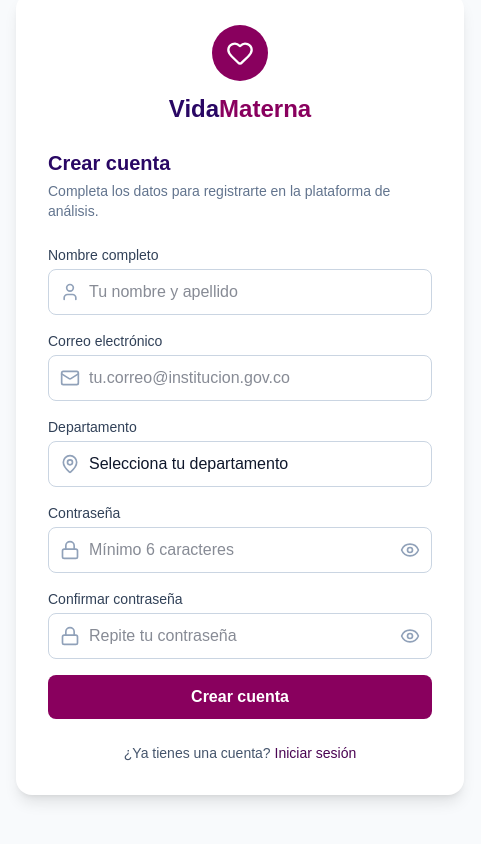
Register › revela la secretaría al seleccionar un departamento
Select "Antioquia" in the dropdown labelled "Departamento". click: [240, 464]
box: [48,441,432,487]
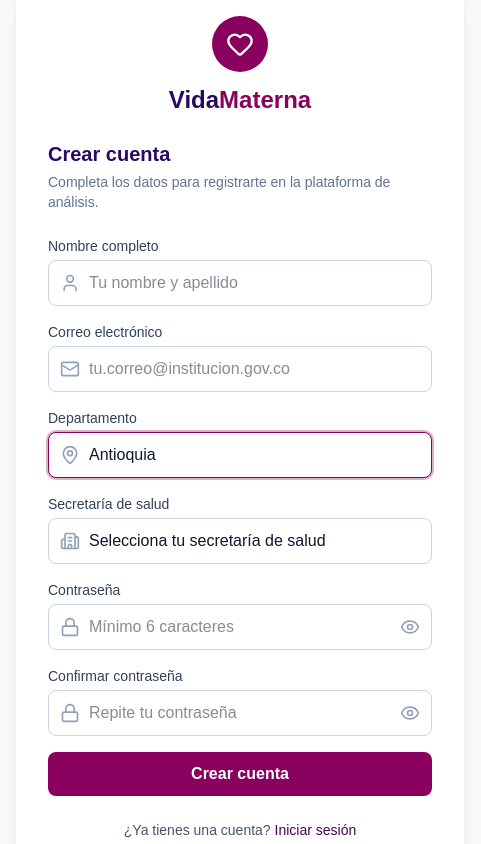
Result: the dropdown labelled "Secretaría de salud" is shown at [48,518,432,564]
